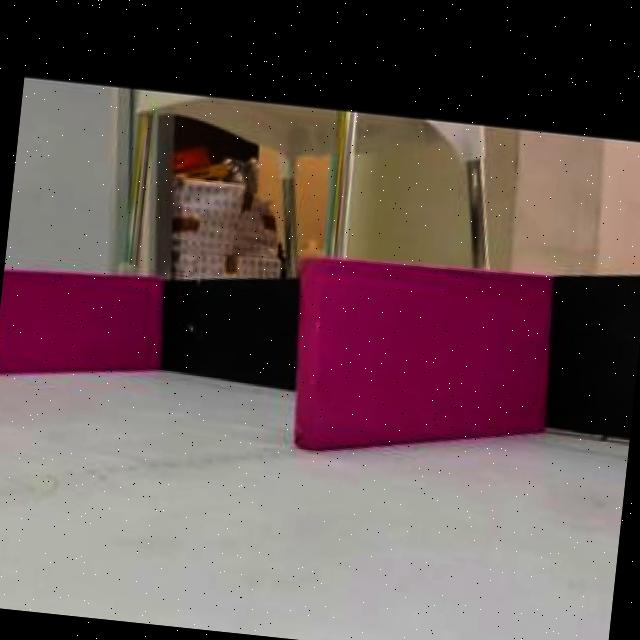xparking: (292, 259, 531, 461), (0, 276, 165, 375)
